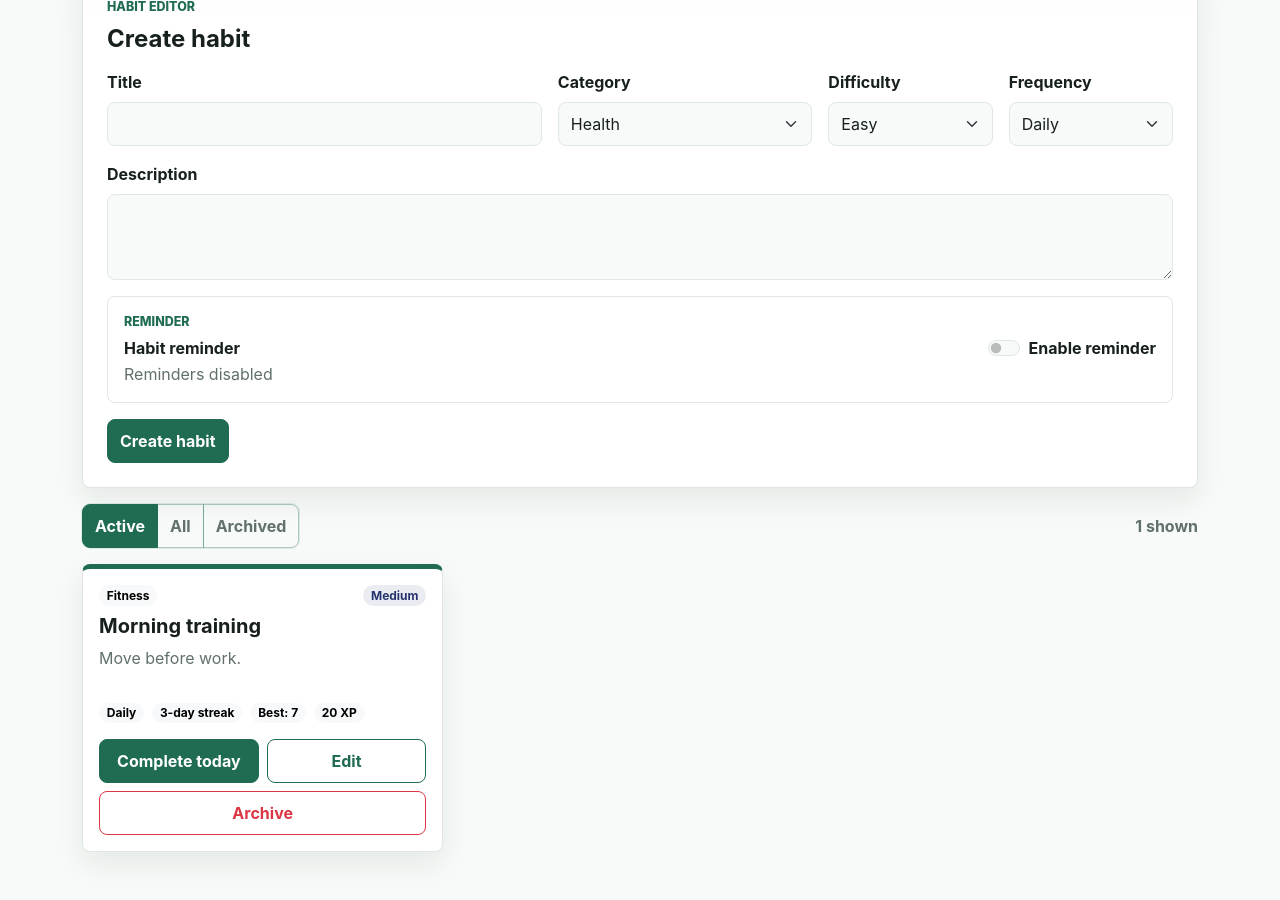
Habits API view › completes habits through the API
The width and height of the screenshot is (1280, 900).
(page scrolled)
What coordinates should you click on to do the following:
click the button "Complete today"
I would click on:
 (179, 761)
Its box is x1=99 y1=739 x2=259 y2=783.
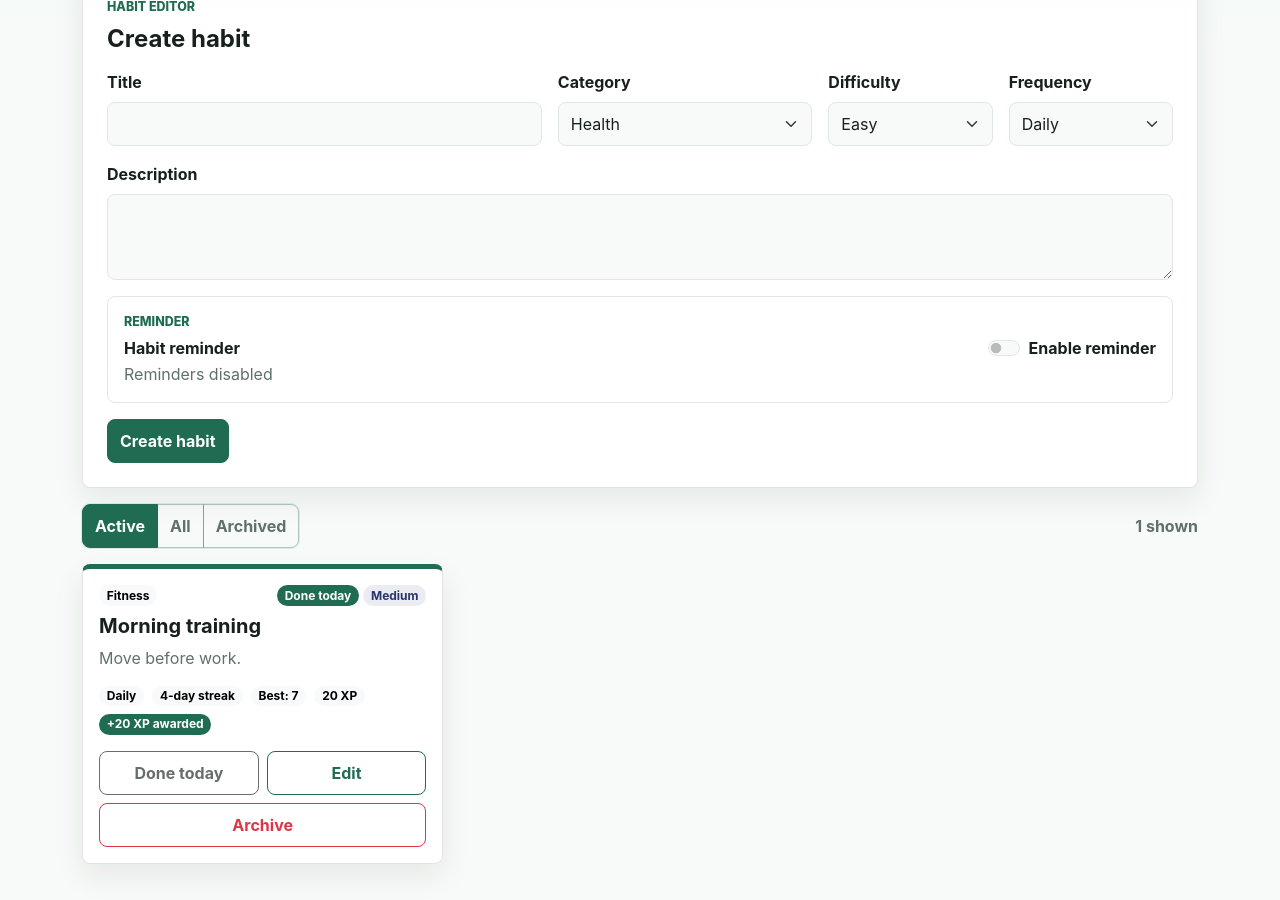
Expected: the text "Done today" is shown, x1=277 y1=585 x2=359 y2=606
Expected: the text "4-day streak" is shown, x1=152 y1=686 x2=243 y2=706
Expected: the text "+20 XP awarded" is shown, x1=99 y1=714 x2=211 y2=735
